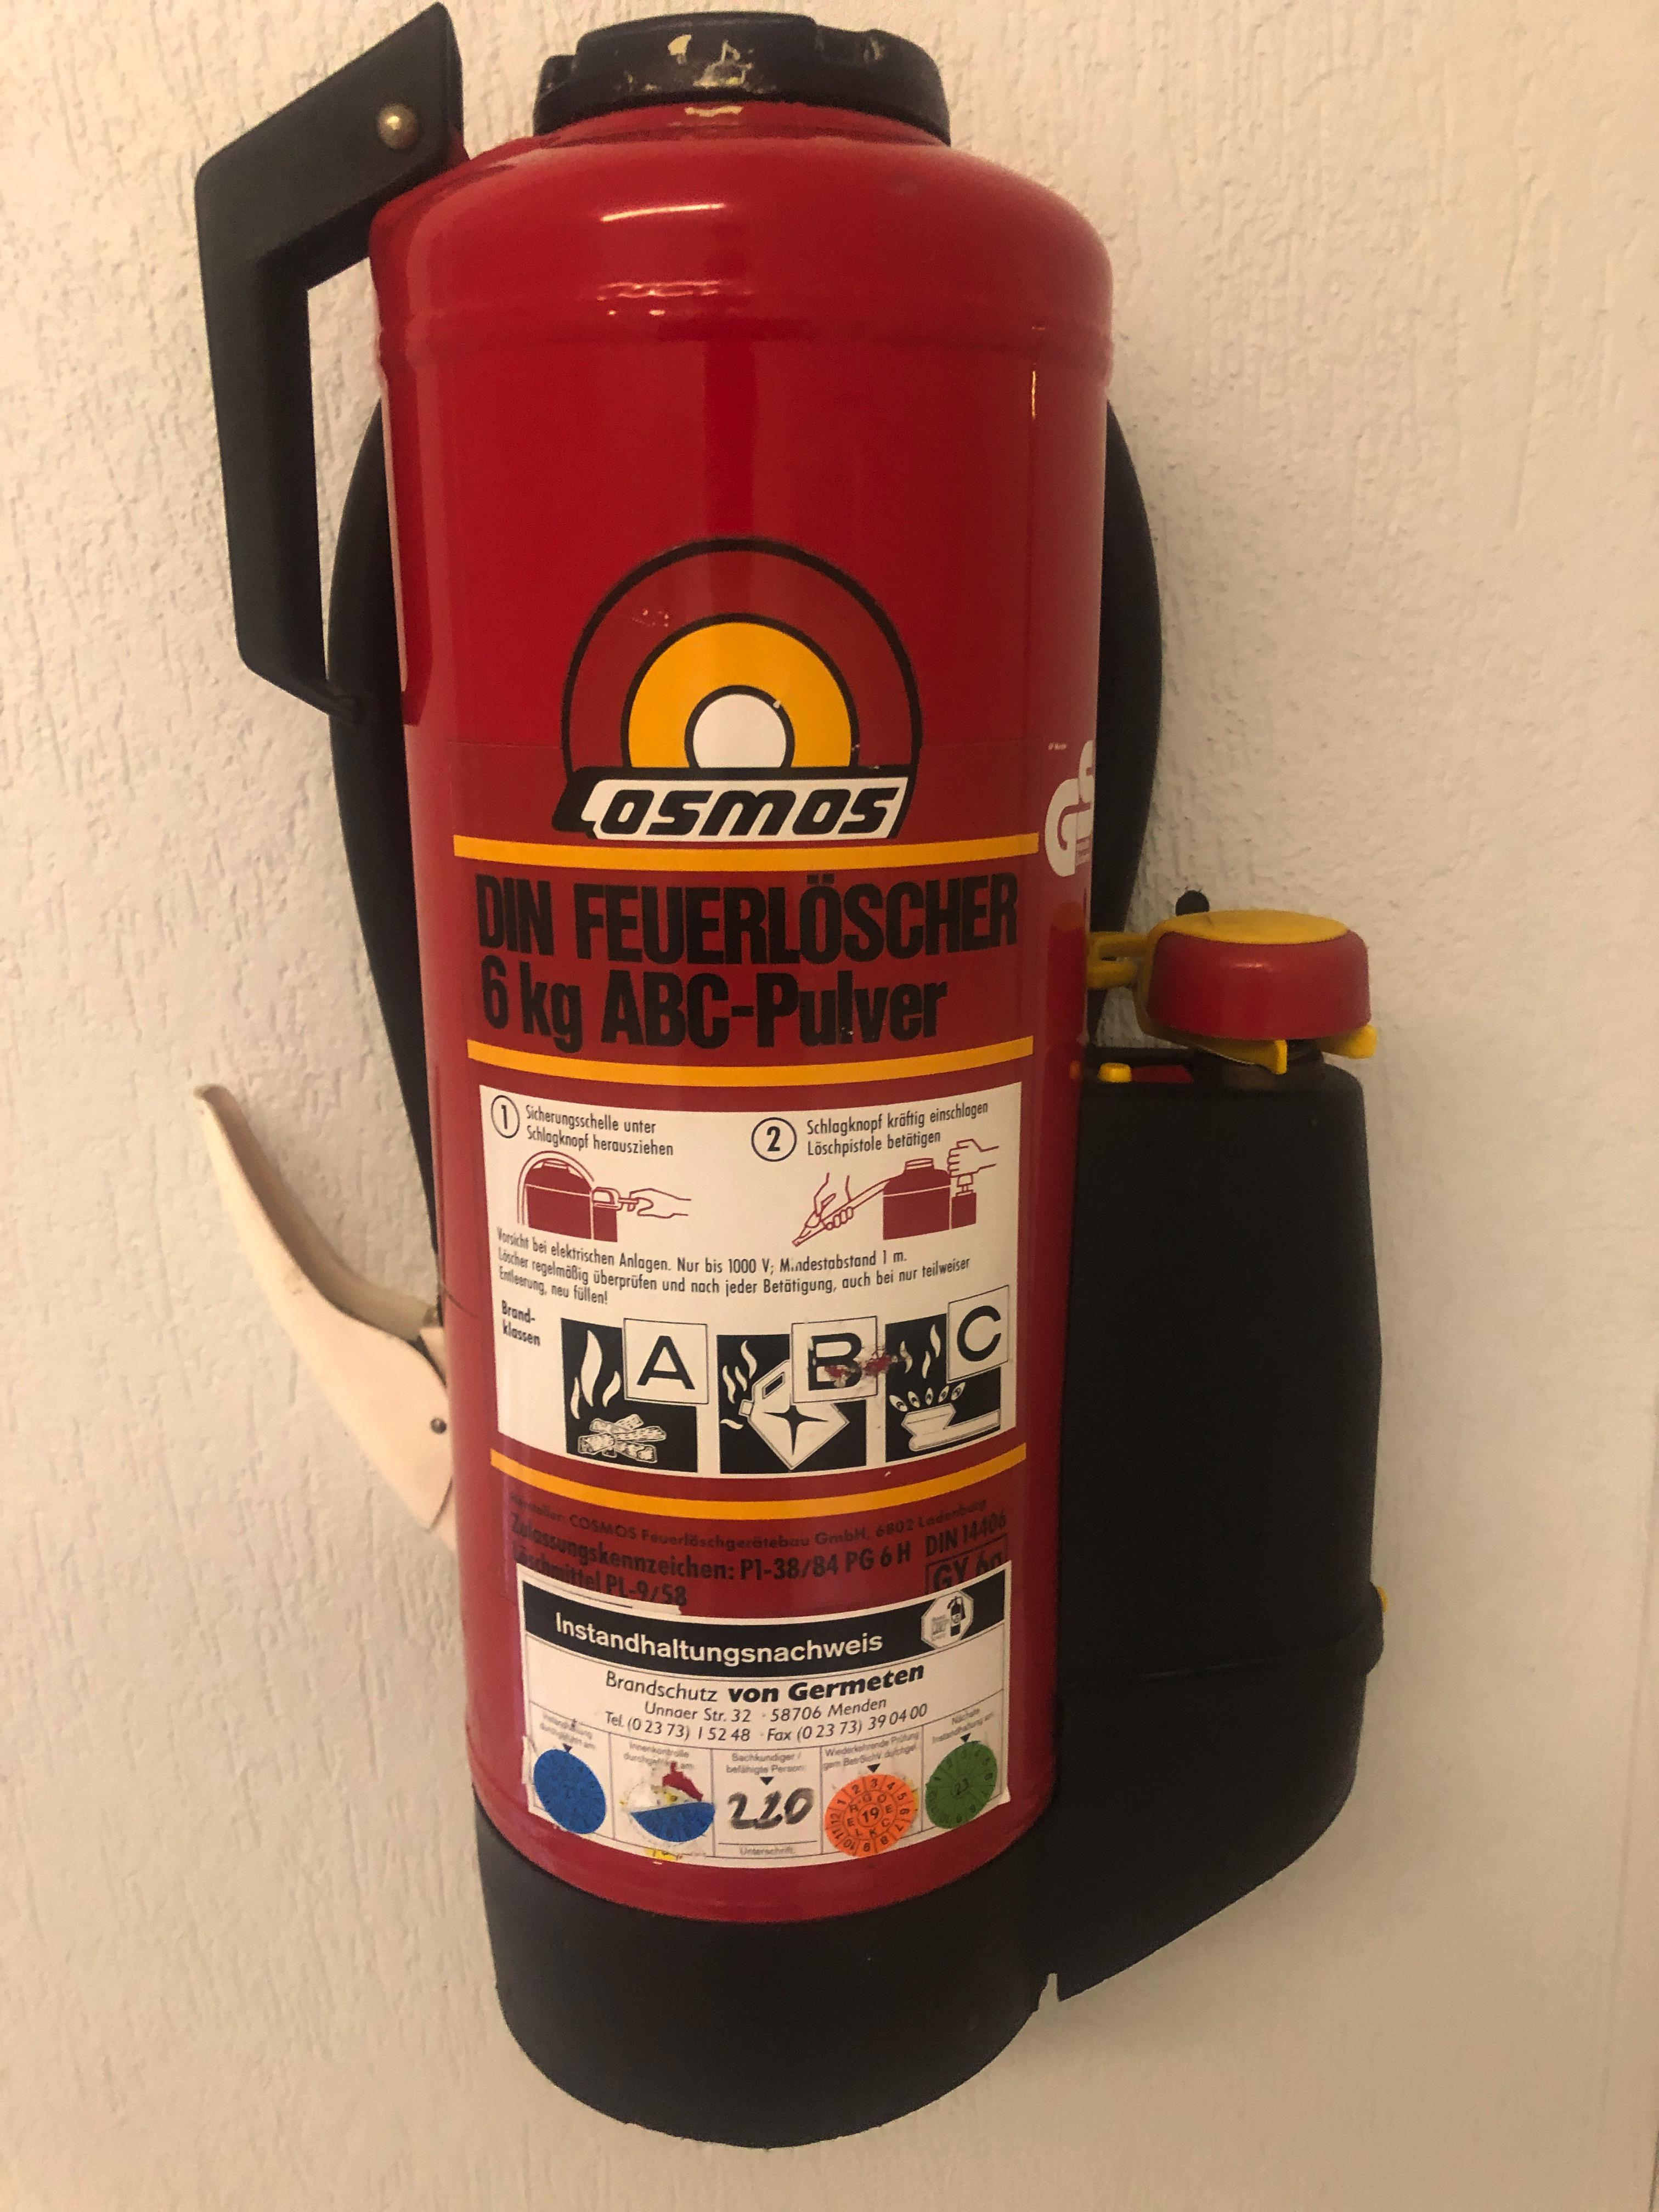extinguisher: (193, 3, 1387, 2148)
